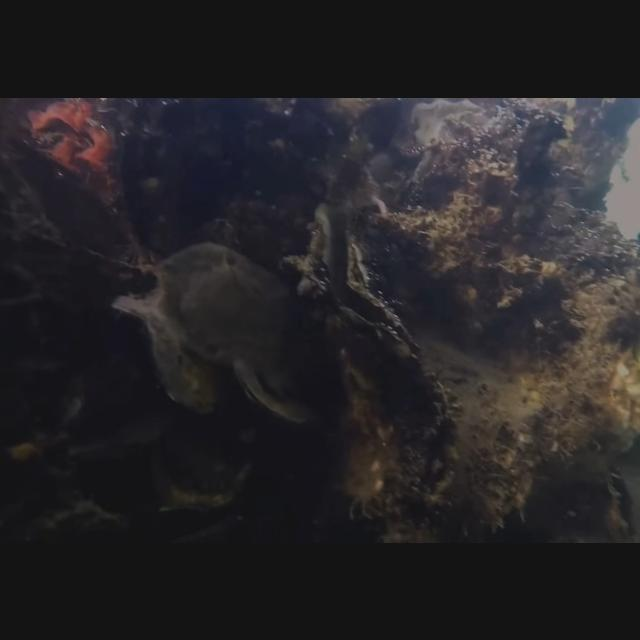Oyster-Closed: (154, 243, 332, 429)
Oyster-Open: (282, 203, 422, 369)
